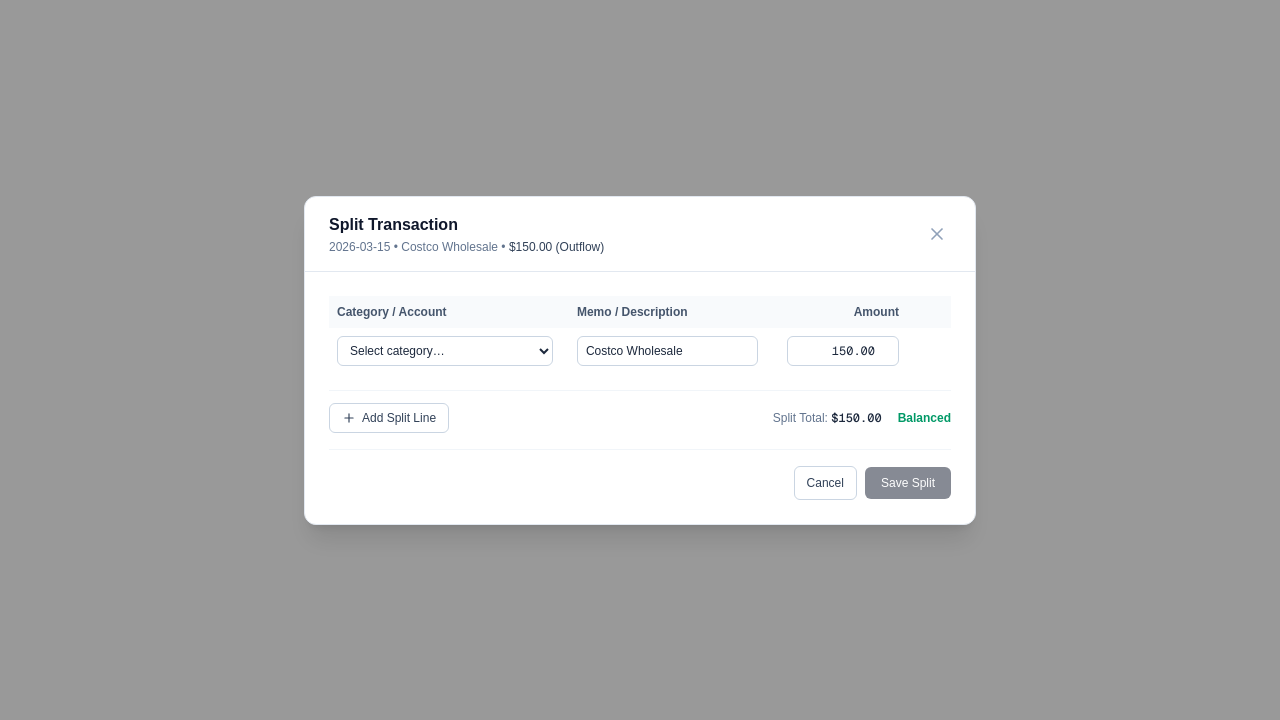
Test: SplitTransactionModal › allows adding and removing split lines dynamically
Expected: the number of dropdowns is 1, left=337, top=336, right=553, bottom=366
Click "Add Split Line"
Click the button "Add Split Line" at (389, 418), box left=329, top=402, right=449, bottom=432
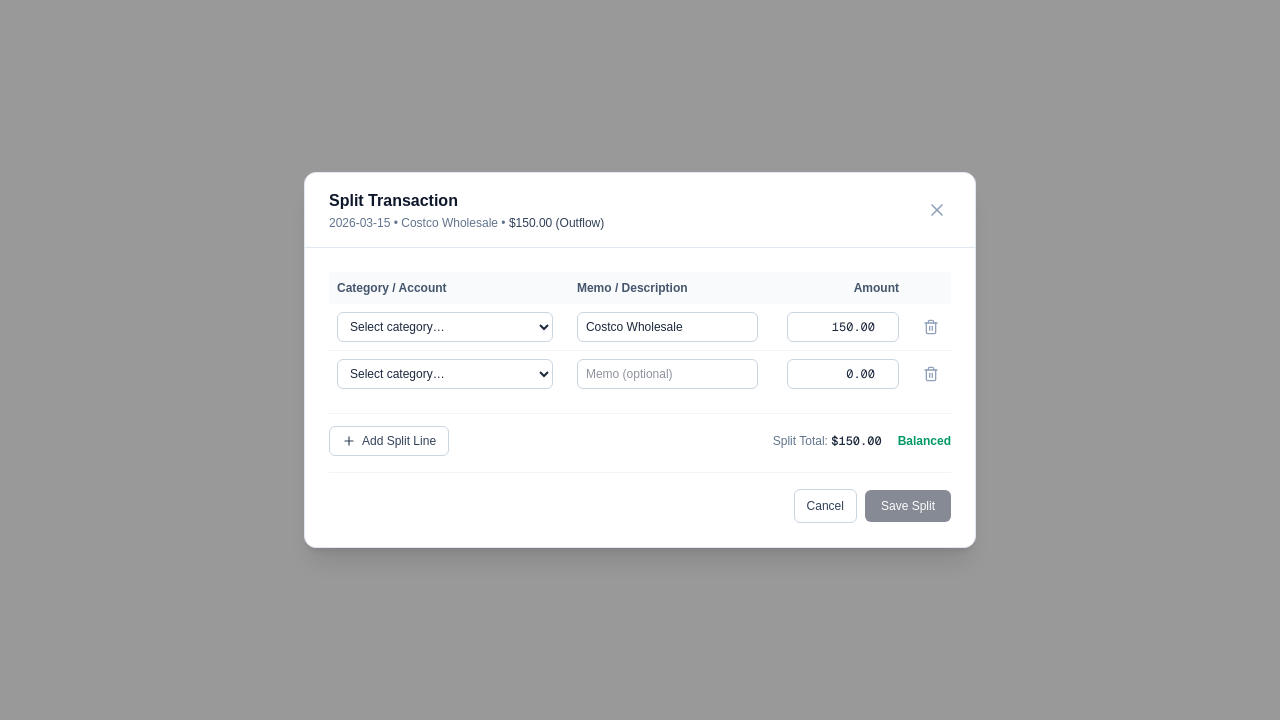
Now the number of dropdowns is 2, box left=337, top=312, right=553, bottom=342; left=337, top=359, right=553, bottom=389
Now the number of buttons named "delete line" is 2
Delete the second line
Click the button named "delete line" at (931, 374), box left=919, top=362, right=943, bottom=386
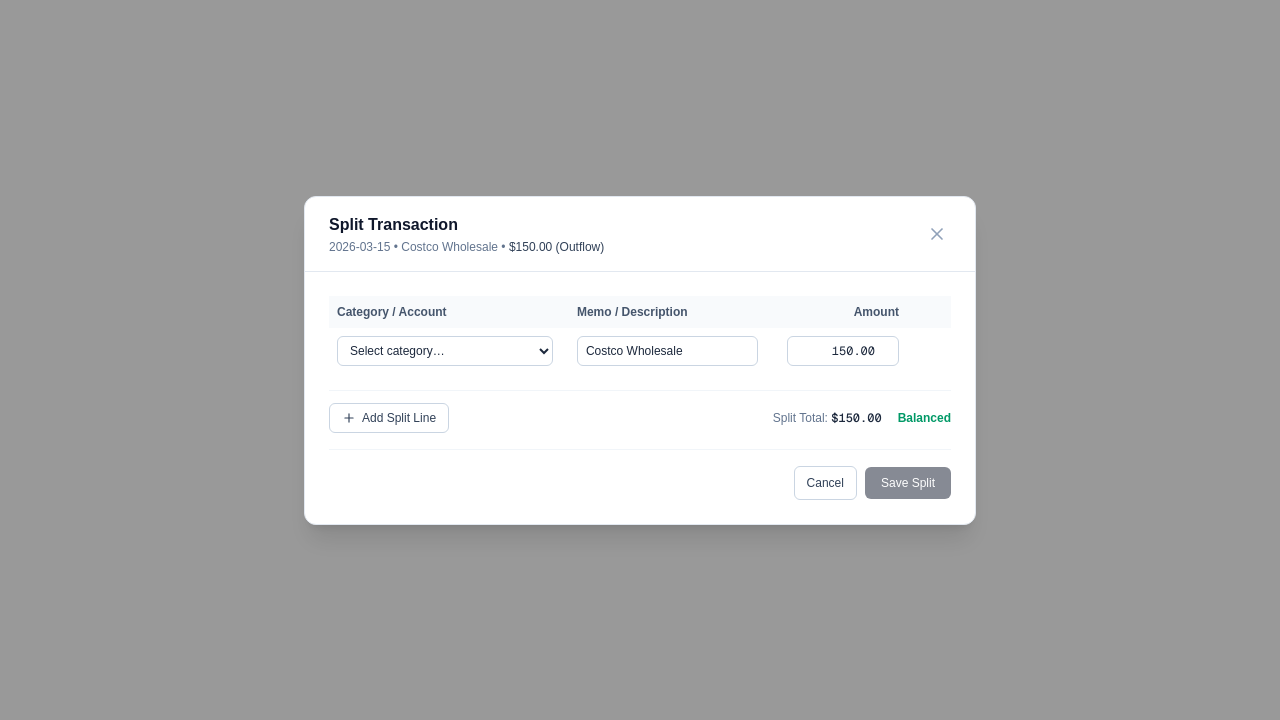
Now the number of dropdowns is 1, box left=337, top=336, right=553, bottom=366
